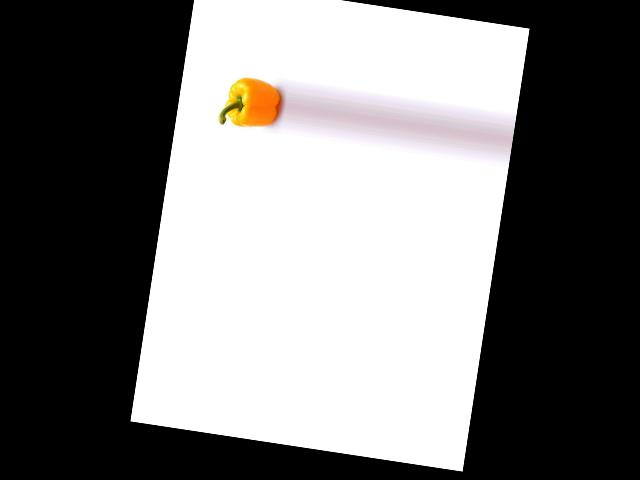bell_pepper: (220, 70, 284, 134)
